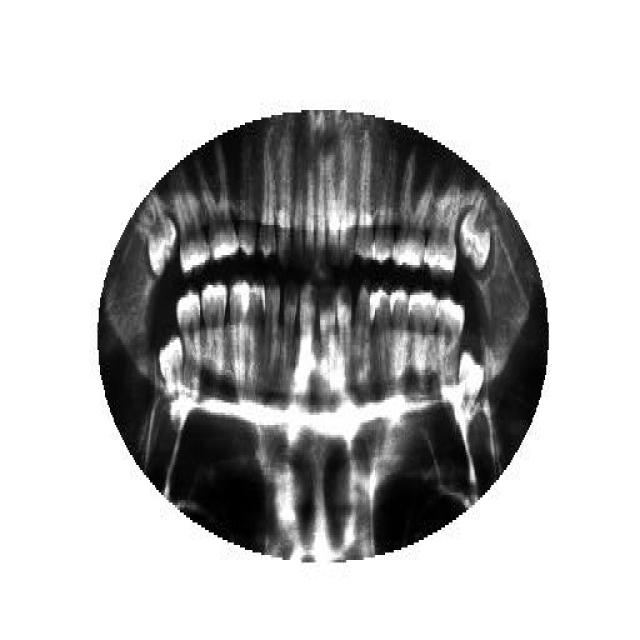Impacted Tooth: (135, 190, 180, 278), (455, 188, 496, 280)
